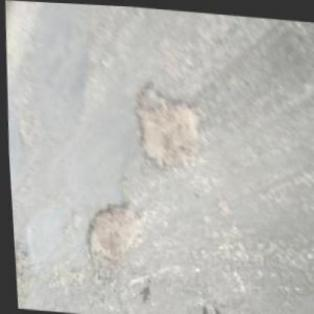Hueco: (126, 75, 207, 175), (78, 194, 151, 276)
